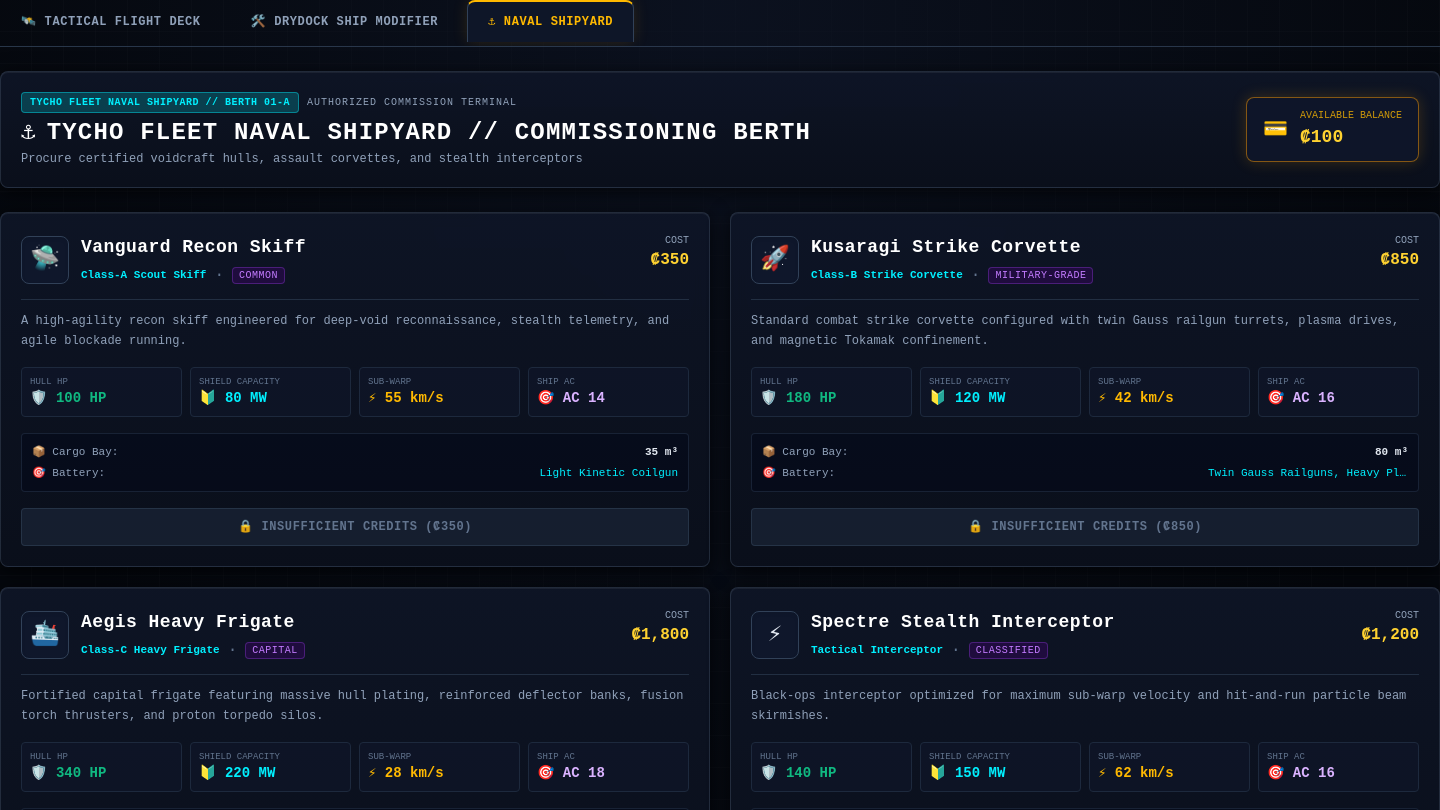
Test case: SpaceshipSheet Mode Switching & Naval Shipyard › shows unassigned notices on Flight Deck and Drydock when player owns no ship
# Go to Flight Deck
Step 1. Click the text "Tactical Flight Deck" → (123, 22), box [45, 14, 201, 30]
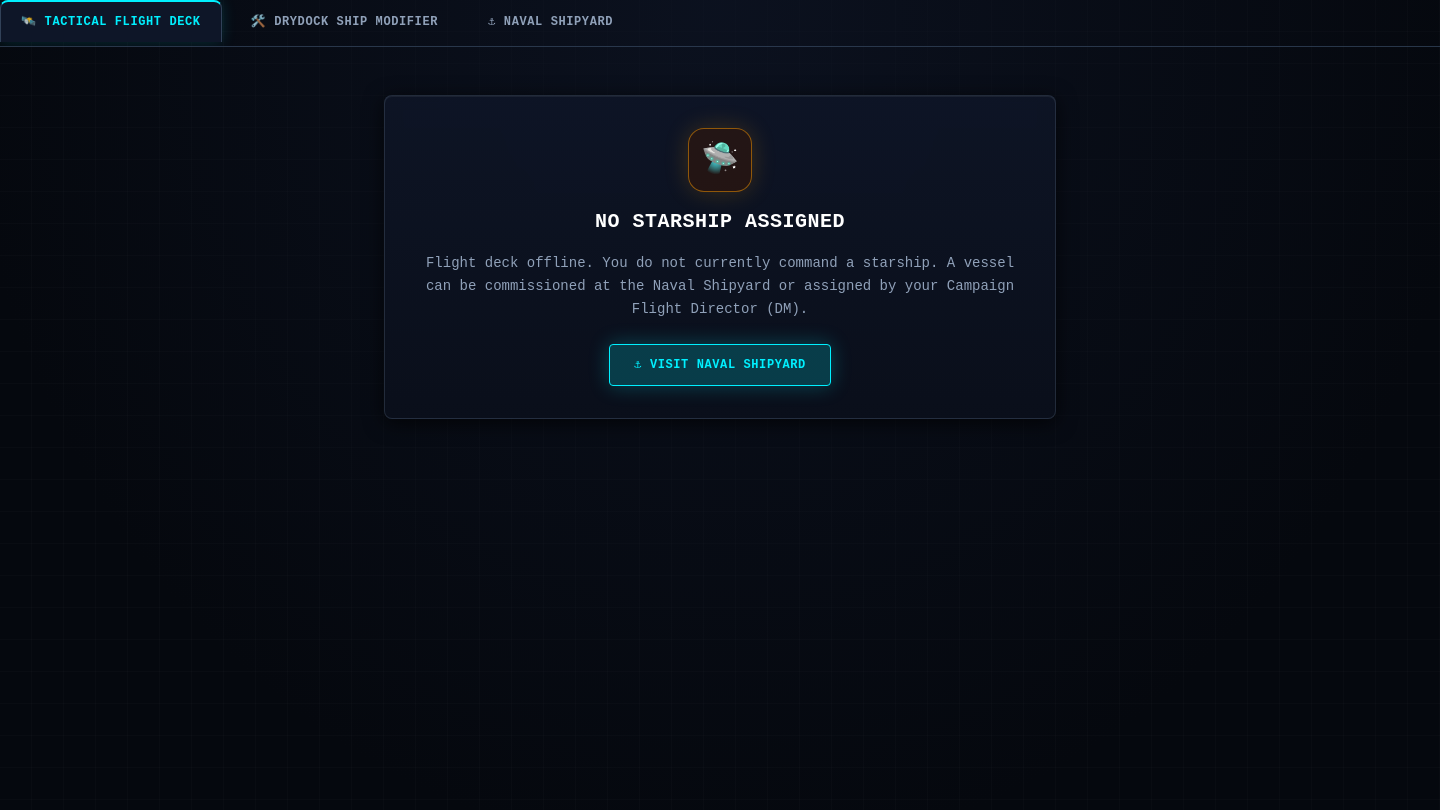
Expected: the heading "No Starship Assigned" is shown, [595, 210, 845, 233]
Expected: the text "Flight deck offline" is shown, [426, 255, 1014, 316]
# Go to Drydock Modifier
Step 2. Click the text "Drydock Ship Modifier" → (356, 22), box [274, 14, 438, 30]
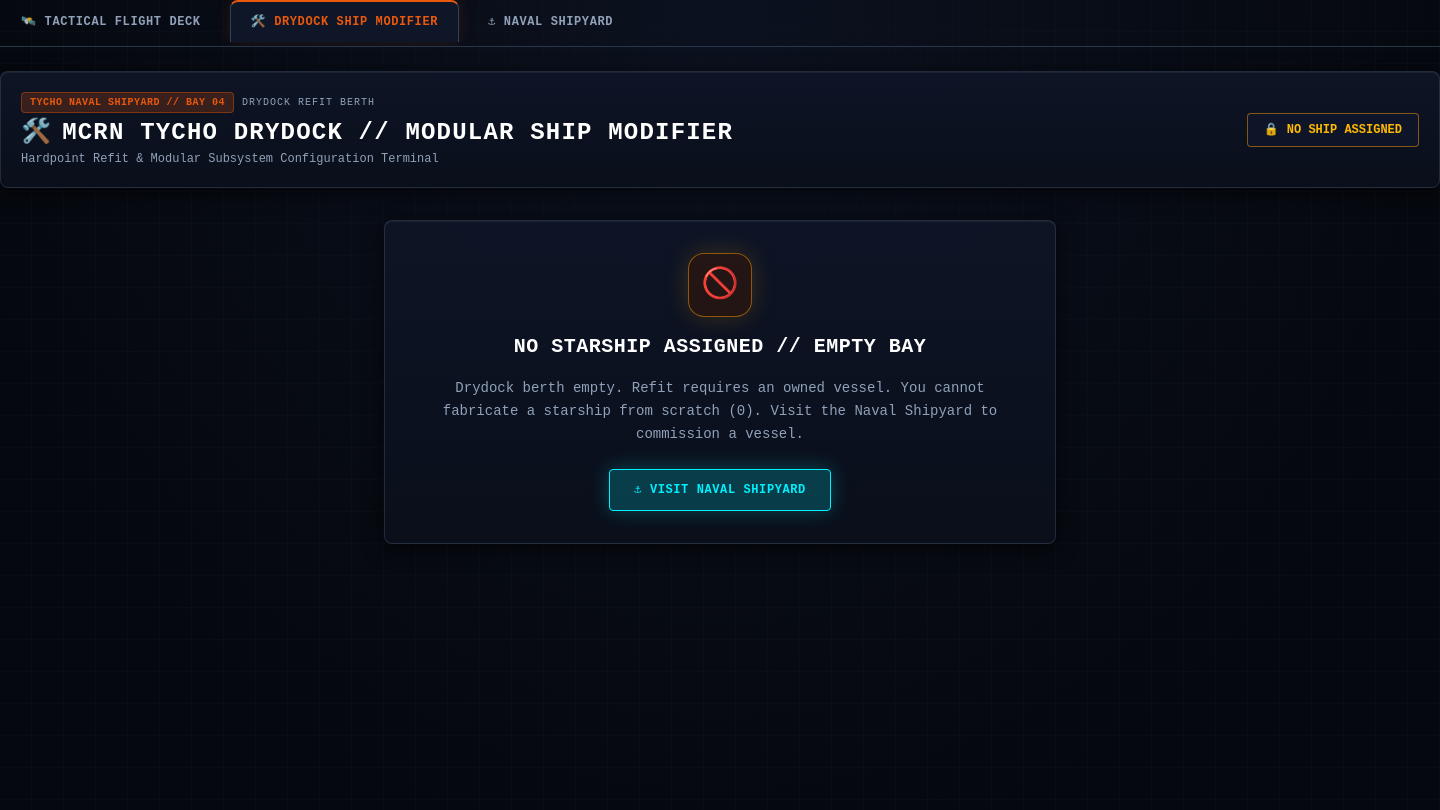
Expected: the text "You cannot fabricate a starship from scratch" is shown, [443, 380, 997, 442]
